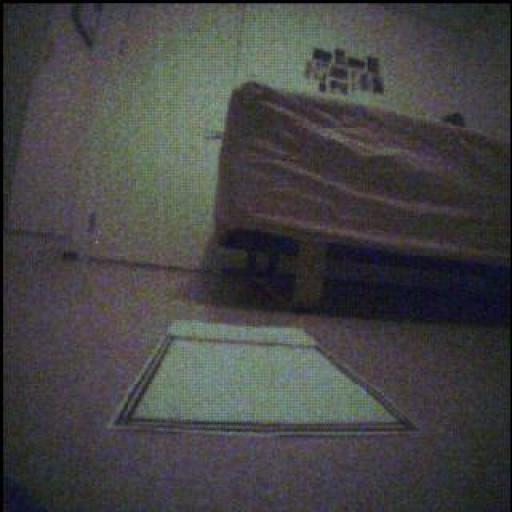pad: (113, 321, 414, 436)
